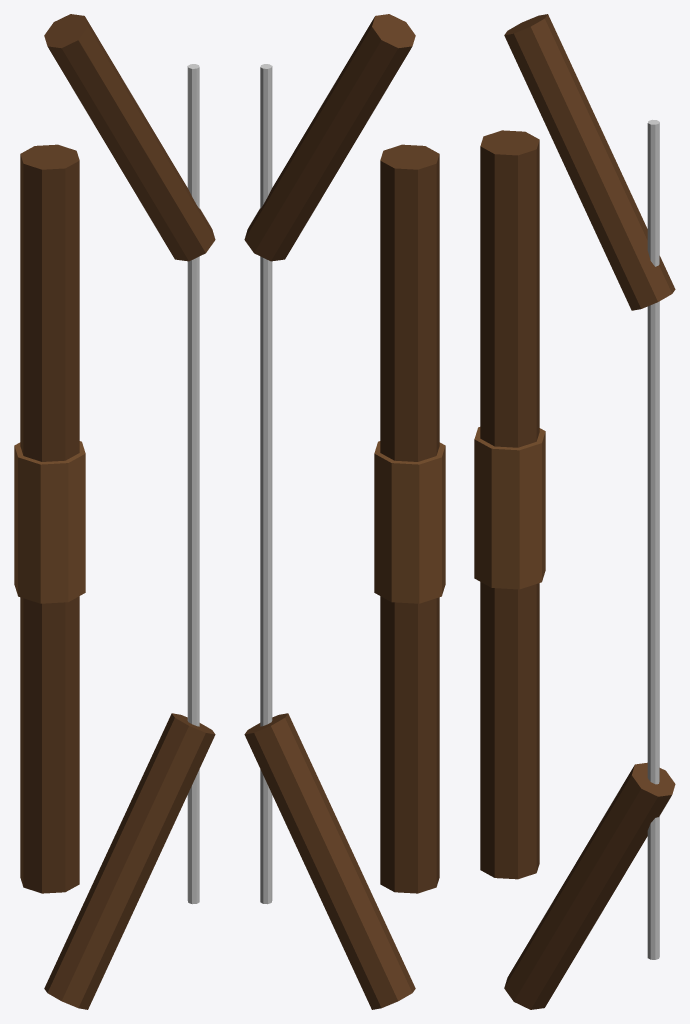
File: SM_GZ_item_hunting_bow.fbx
3 renders of one model, left to right at view 1: azimuth 30°, elevation 25°; view 2: azimuth 150°, elevation 25°; view 3: azimuth 330°, elevation 25°, orthographic.
Visible parts, largest first — view 1: SM_GZ_item_hunting_bow; view 2: SM_GZ_item_hunting_bow; view 3: SM_GZ_item_hunting_bow.
Part boxes in pixels (x1,y1,x2,y2): SM_GZ_item_hunting_bow: [14, 14, 215, 1009]; SM_GZ_item_hunting_bow: [244, 14, 445, 1009]; SM_GZ_item_hunting_bow: [474, 14, 675, 1009].
Bounding box in the file's own units: 36.5 × 178 × 12.
